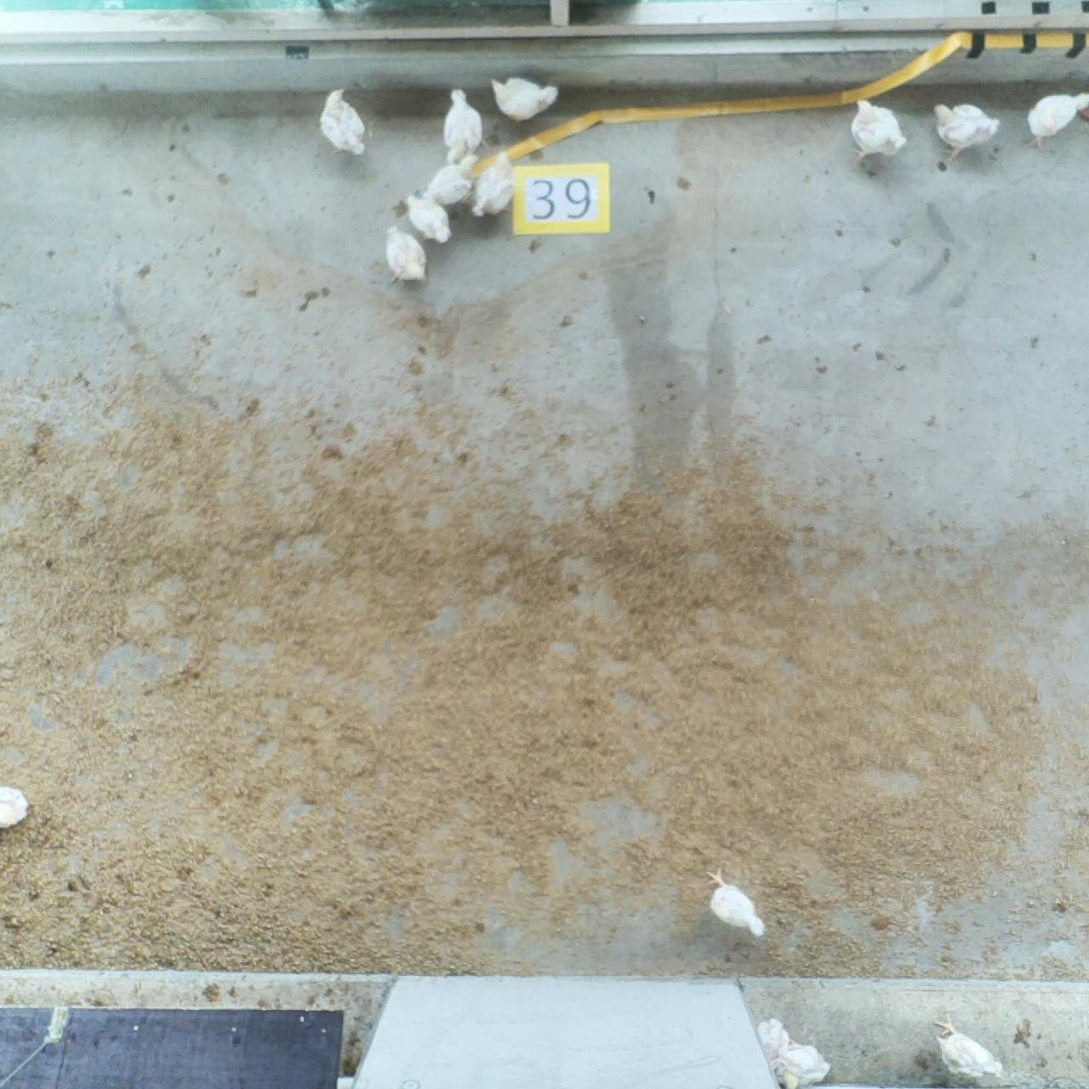chicken: (923, 1008, 1007, 1083), (698, 862, 772, 941), (928, 96, 1003, 166), (1019, 86, 1089, 157), (844, 94, 909, 167), (485, 71, 562, 131), (317, 84, 370, 159), (469, 145, 521, 218), (420, 152, 486, 209), (440, 87, 483, 166), (401, 189, 457, 248), (381, 221, 430, 288), (771, 1038, 832, 1089), (754, 1013, 791, 1064), (0, 782, 30, 833)
